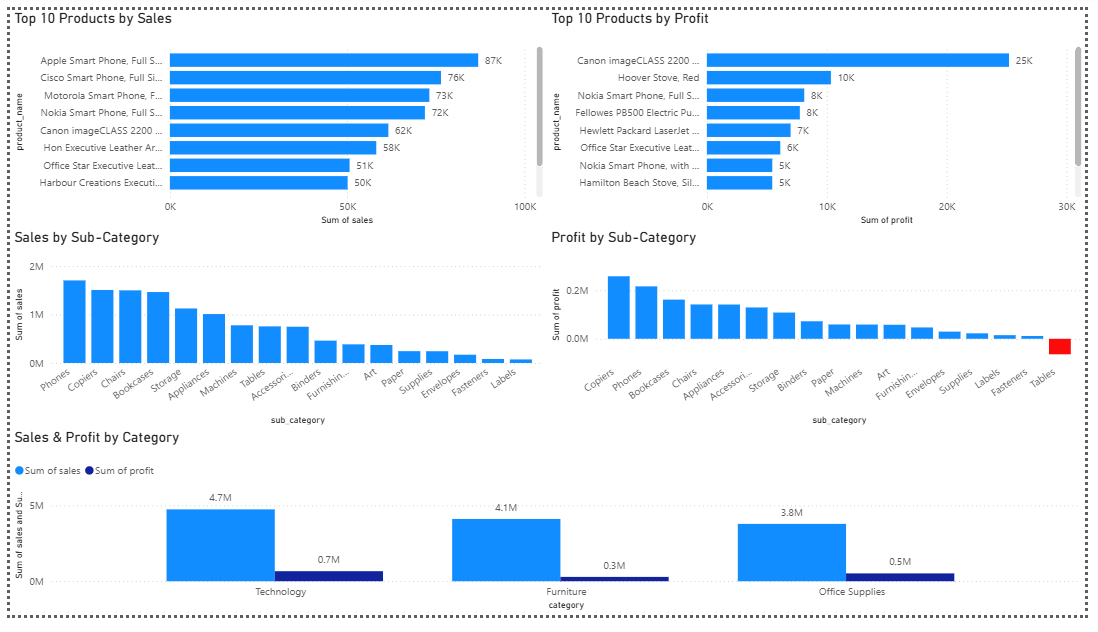

This screenshot's page, from the dashboard's own definition file:
{"tool":"powerbi","page":{"name":"Product Analysis","canvas":[1280,720],"ordinal":1},"visuals":[{"type":"clusteredBarChart","title":"Top 10 Products by Sales","fields":{"Category":["Superstore_Sales_SQL_Ready.product_name"],"Y":["Sum(Superstore_Sales_SQL_Ready.sales)"]},"box":[0,0,639.2,260.8],"z":0},{"type":"clusteredBarChart","title":"Top 10 Products by Profit","fields":{"Category":["Superstore_Sales_SQL_Ready.product_name"],"Y":["Sum(Superstore_Sales_SQL_Ready.profit)"]},"box":[639.2,0,641.2,260.8],"z":1000},{"type":"clusteredColumnChart","title":"Sales by Sub-Category","fields":{"Category":["Superstore_Sales_SQL_Ready.sub_category"],"Y":["Sum(Superstore_Sales_SQL_Ready.sales)"]},"box":[0,260.4,639.6,237.5],"z":2000},{"type":"clusteredColumnChart","title":"Profit by Sub-Category","fields":{"Category":["Superstore_Sales_SQL_Ready.sub_category"],"Y":["Sum(Superstore_Sales_SQL_Ready.profit)"]},"box":[639.6,260.4,641.7,237.5],"z":3000},{"type":"clusteredColumnChart","title":"Sales & Profit by Category","fields":{"Category":["Superstore_Sales_SQL_Ready.category"],"Y":["Sum(Superstore_Sales_SQL_Ready.sales)","Sum(Superstore_Sales_SQL_Ready.profit)"]},"box":[0,497.9,1279.2,220.8],"z":4000}]}

Visuals, with their boxes in screenshot pixels (x1, y1, x2, y2), scaled from the page's 1280x720 canvas onto the 1098x632 screenshot:
"Top 10 Products by Sales" clusteredBarChart: (x1=0, y1=0, x2=548, y2=229)
"Top 10 Products by Profit" clusteredBarChart: (x1=548, y1=0, x2=1097, y2=229)
"Sales by Sub-Category" clusteredColumnChart: (x1=0, y1=229, x2=549, y2=437)
"Profit by Sub-Category" clusteredColumnChart: (x1=549, y1=229, x2=1097, y2=437)
"Sales & Profit by Category" clusteredColumnChart: (x1=0, y1=437, x2=1097, y2=631)
